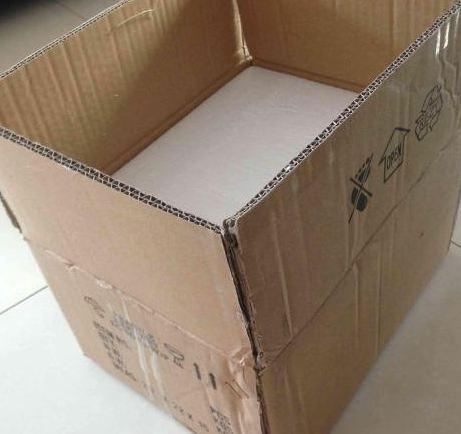cardboard: (0, 0, 460, 432)
